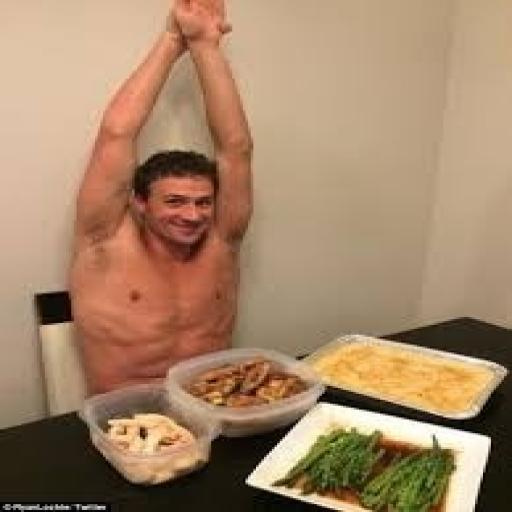eating: (63, 0, 259, 396)
